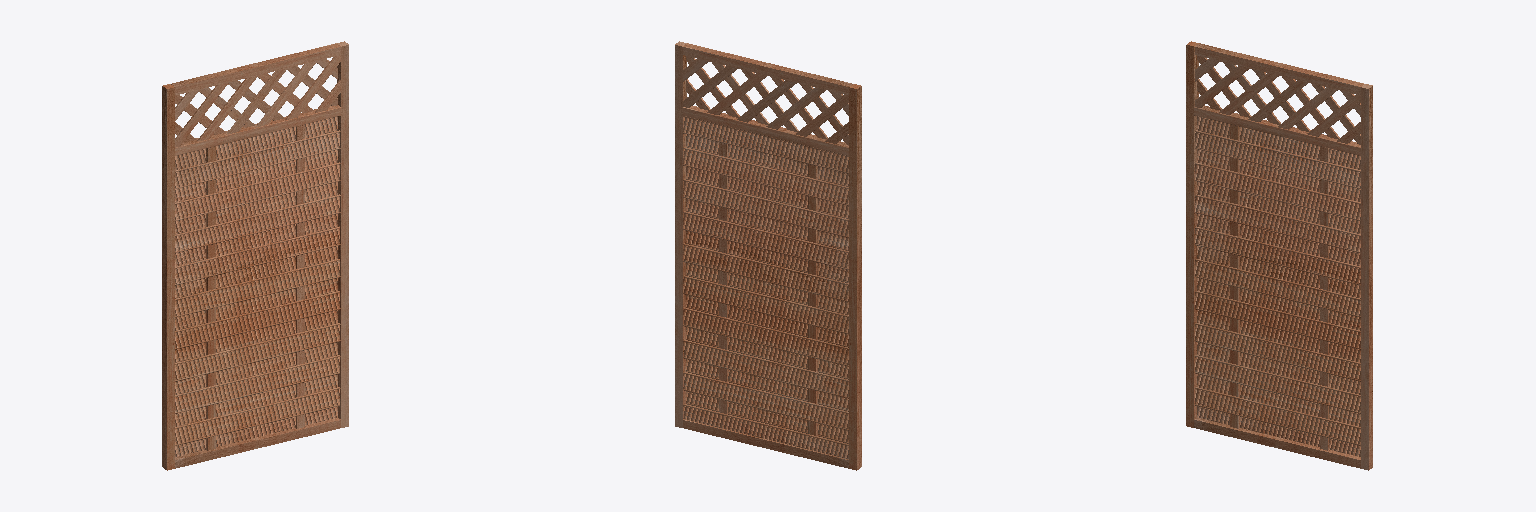
3 views of the same model, side by side, from view 1: azimuth 30°, elevation 25°; view 2: azimuth 150°, elevation 25°; view 3: azimuth 330°, elevation 25° (orthographic).
Visible parts, largest first — view 1: FC009H2L6_EXO1_Plane.826; view 2: FC009H2L6_EXO1_Plane.826; view 3: FC009H2L6_EXO1_Plane.826.
Boxes of the visible parts, x1=… form: FC009H2L6_EXO1_Plane.826: x1=162, y1=41, x2=348, y2=470; FC009H2L6_EXO1_Plane.826: x1=675, y1=41, x2=861, y2=470; FC009H2L6_EXO1_Plane.826: x1=1186, y1=41, x2=1372, y2=470.
Bounding box in the file's own units: 0.9014 × 1.8 × 0.04.
Materials: 1 (1 with a texture image).